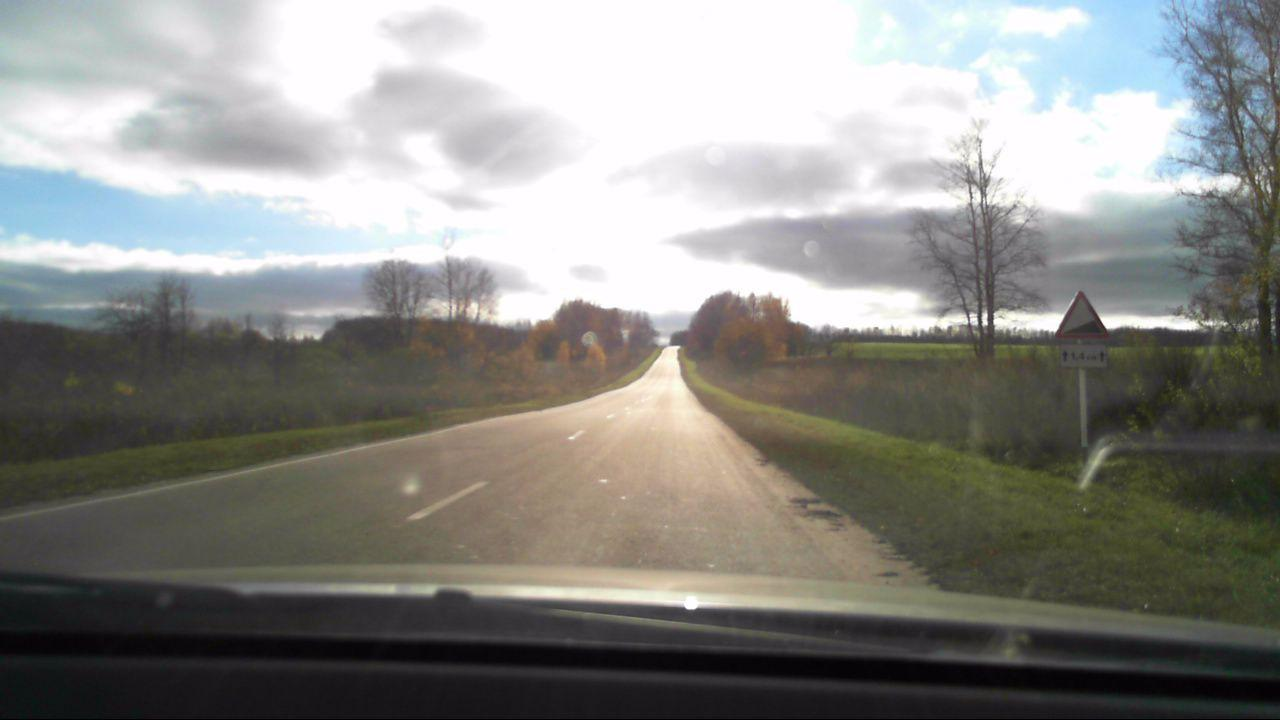1_14: (1054, 287, 1108, 340)
8_2_1: (1055, 343, 1110, 370)
